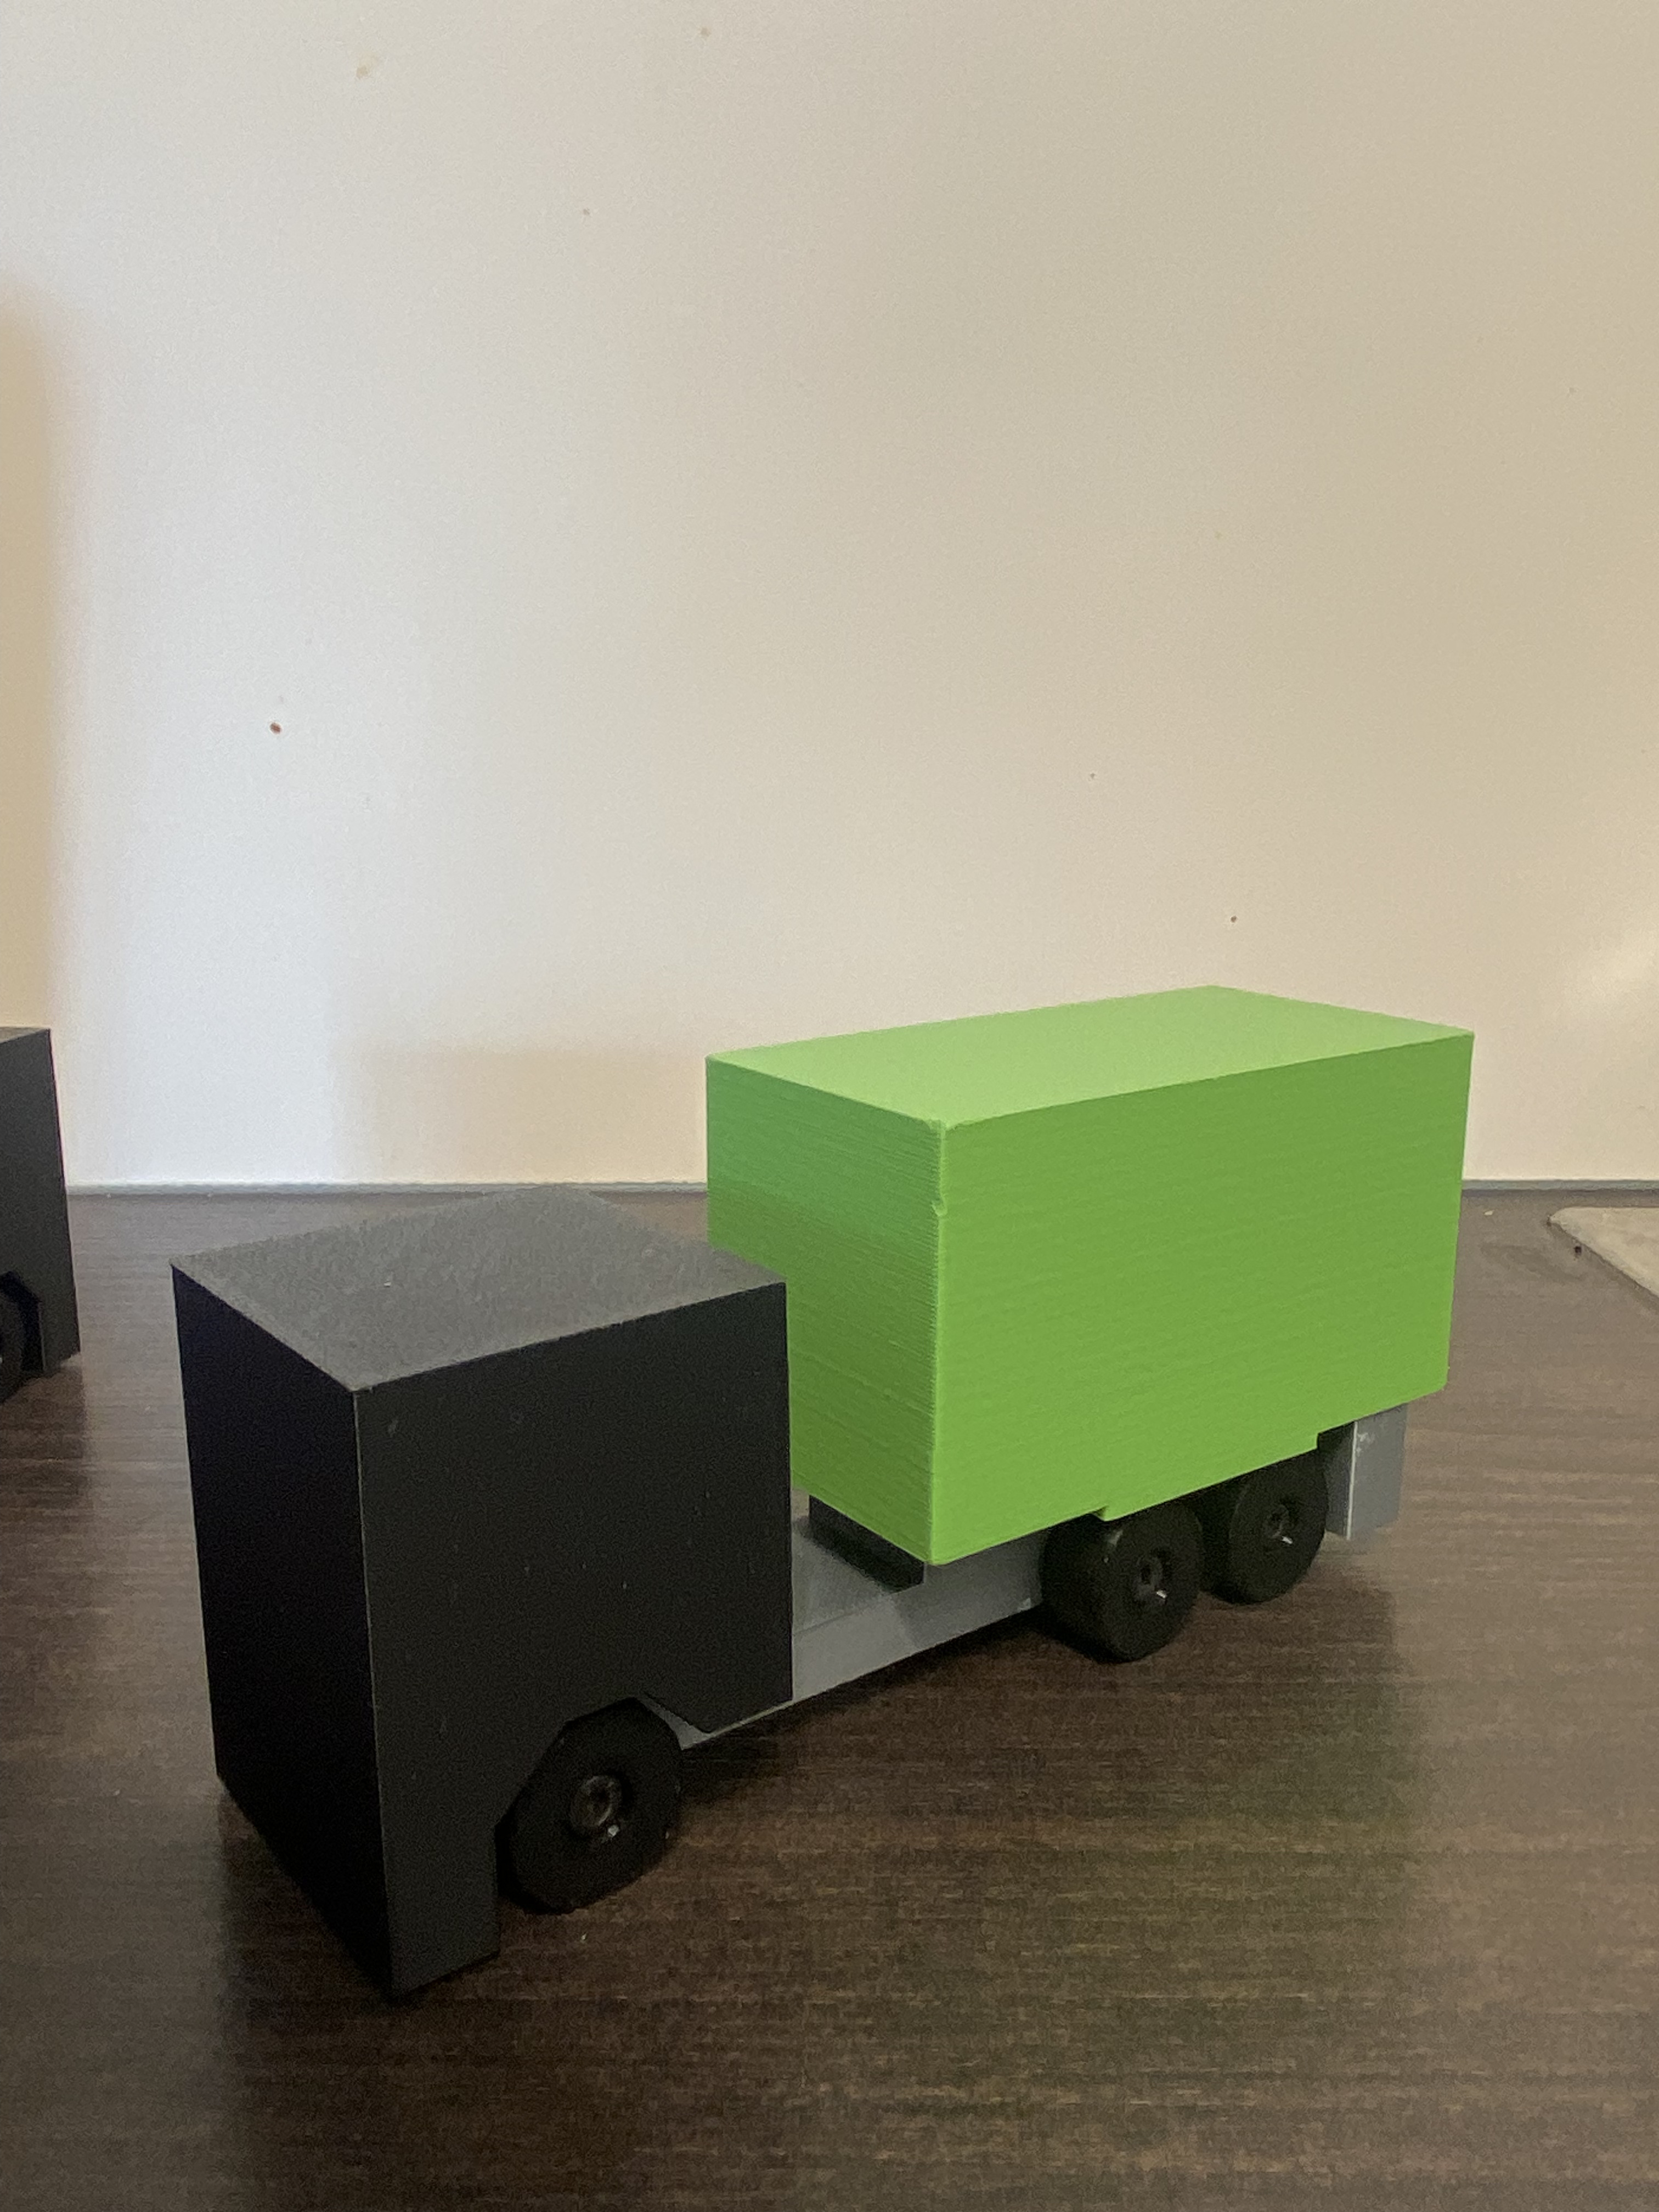green_truck: (162, 972, 1481, 2000)
